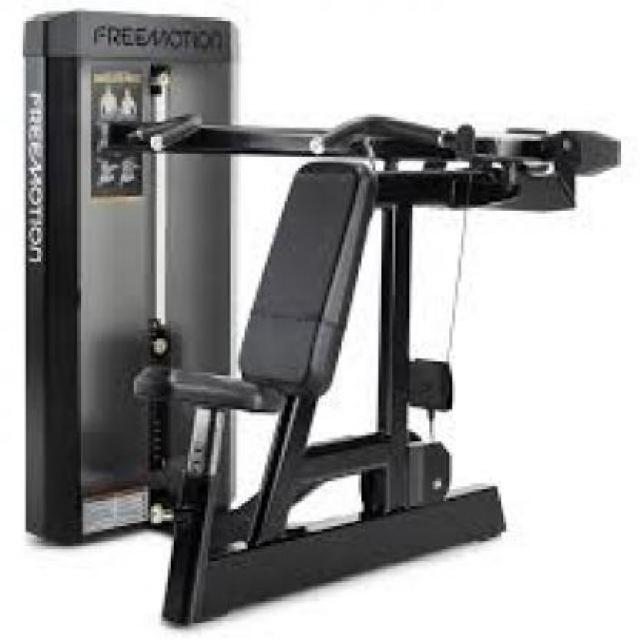shoulder press machine: (7, 4, 640, 637)
